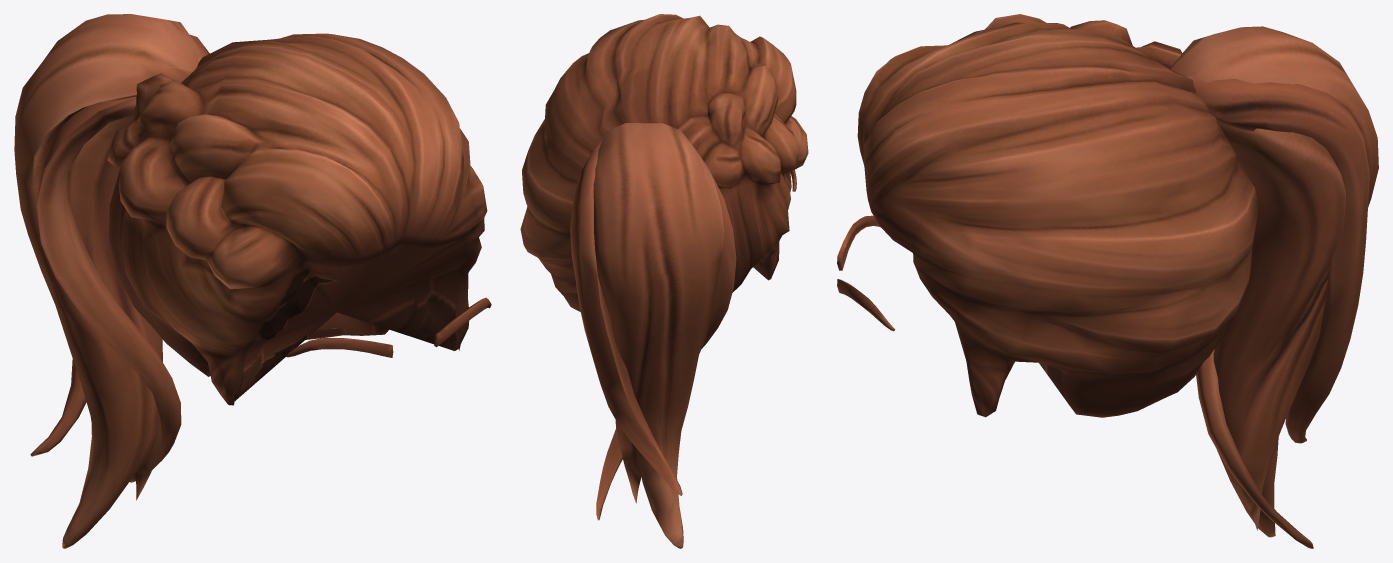
File: jogador_cabelo.obj
The picture shows the model from 3 angles, left to right: view 1: azimuth 30°, elevation 25°; view 2: azimuth 150°, elevation 25°; view 3: azimuth 270°, elevation 25°; orthographic projection. The views are drawn at different scales.
Visible parts, largest first — view 1: 0001_F_MED_CAU_Armstrong_01; view 2: 0001_F_MED_CAU_Armstrong_01; view 3: 0001_F_MED_CAU_Armstrong_01.
Part boxes in pixels (box(x1,y1,x2,y2)): 0001_F_MED_CAU_Armstrong_01: box(14, 14, 491, 548); 0001_F_MED_CAU_Armstrong_01: box(520, 14, 808, 548); 0001_F_MED_CAU_Armstrong_01: box(837, 14, 1378, 548).
Size of the model in its own units: 0.1713 by 0.2699 by 0.2364.
1 material, 1 textured.
